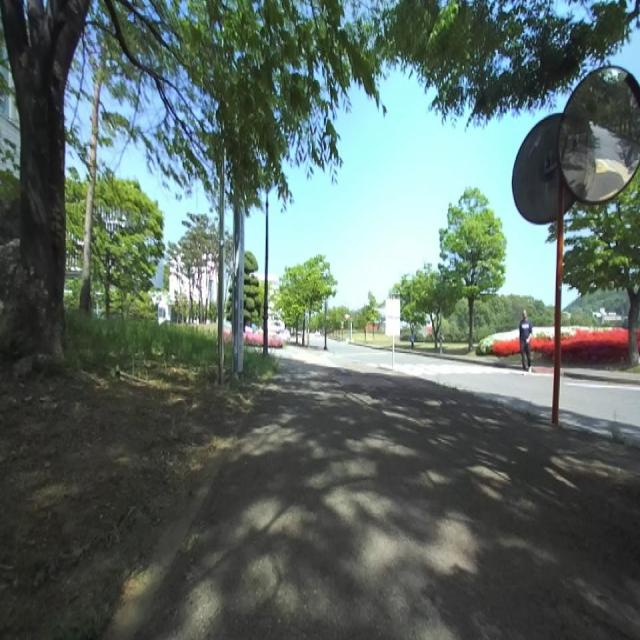sidewalk: (141, 359, 640, 639)
